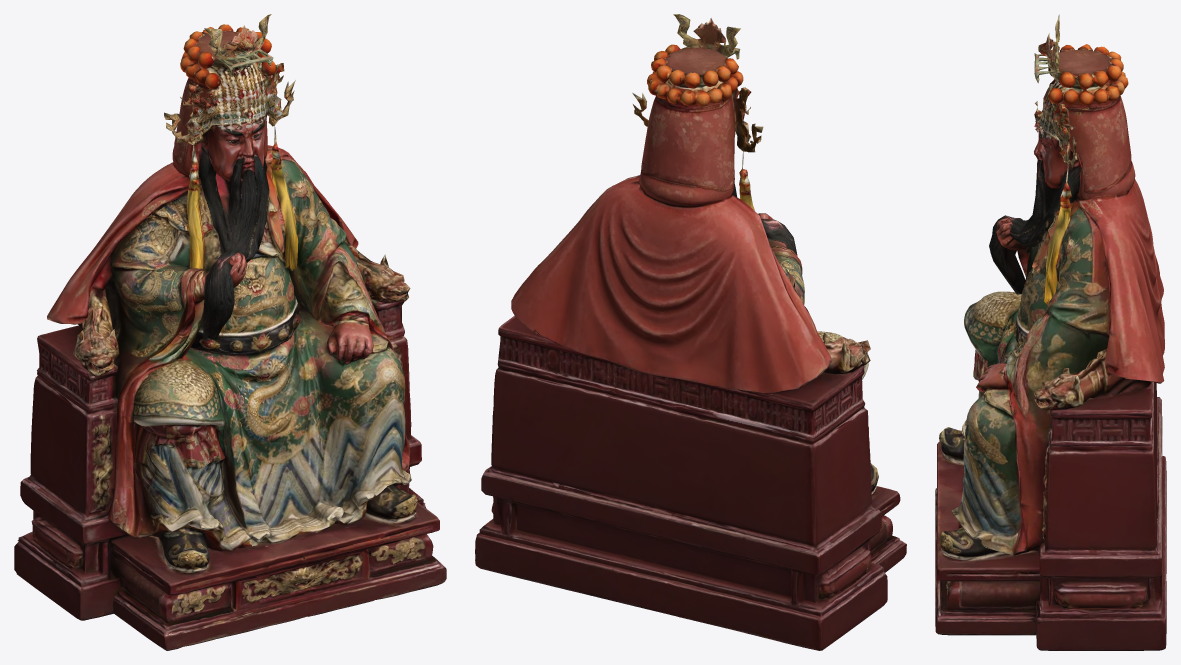
The picture shows the model from 3 angles, left to right: view 1: azimuth 30°, elevation 25°; view 2: azimuth 150°, elevation 25°; view 3: azimuth 270°, elevation 25°; orthographic projection. The views are drawn at different scales.
Visible parts, largest first — view 1: tripo_node_ff974931-d6ad-41a5-9be5-039101693470; view 2: tripo_node_ff974931-d6ad-41a5-9be5-039101693470; view 3: tripo_node_ff974931-d6ad-41a5-9be5-039101693470.
Boxes of the visible parts, x1,y1,x2,y2 form: tripo_node_ff974931-d6ad-41a5-9be5-039101693470: [14, 14, 446, 650]; tripo_node_ff974931-d6ad-41a5-9be5-039101693470: [475, 14, 906, 650]; tripo_node_ff974931-d6ad-41a5-9be5-039101693470: [935, 14, 1166, 650].
Size of the model in its own units: 0.6455 by 0.9791 by 0.3819.
Materials: 1 (1 with a texture image).
